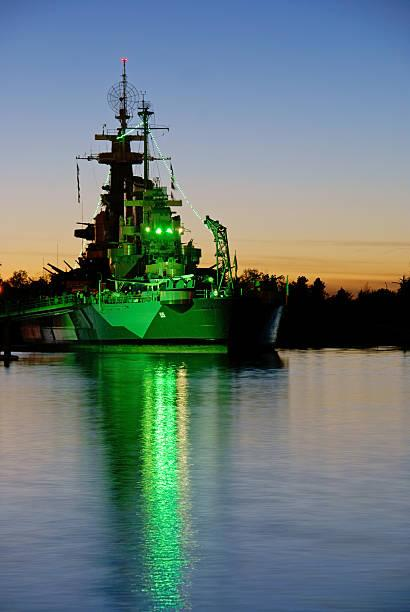MIL_Ship: (0, 57, 292, 354)
